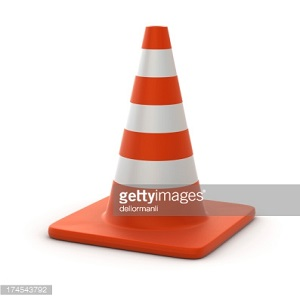traffic cone: (48, 26, 255, 259)
